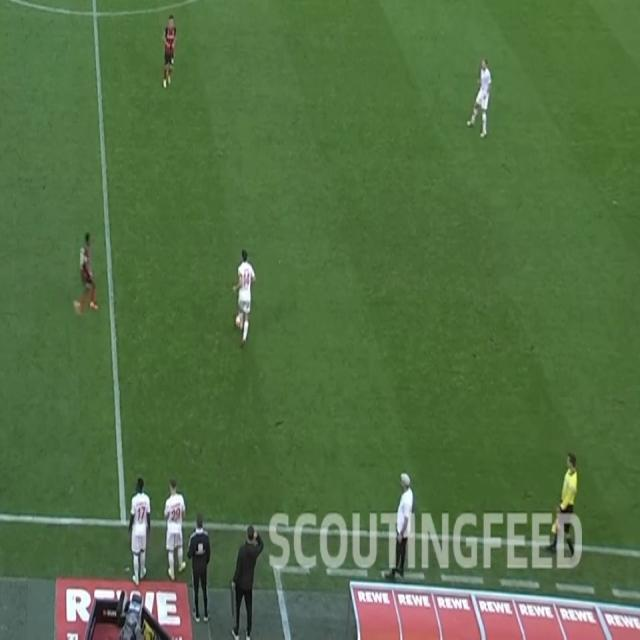ball: (235, 312, 244, 328)
